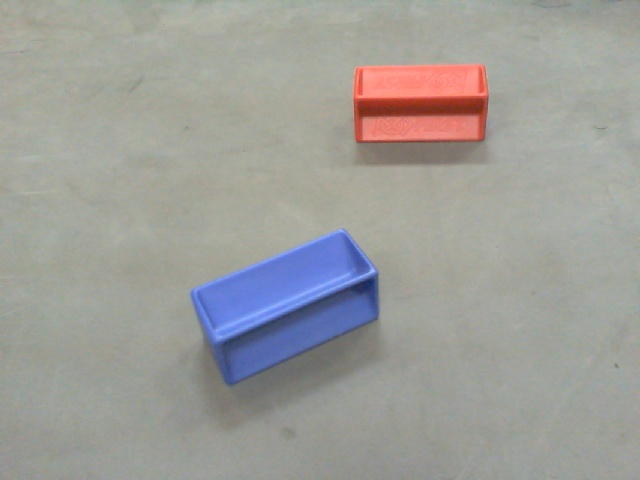BlueSample: (187, 225, 381, 389)
RedSample: (353, 64, 489, 145)
